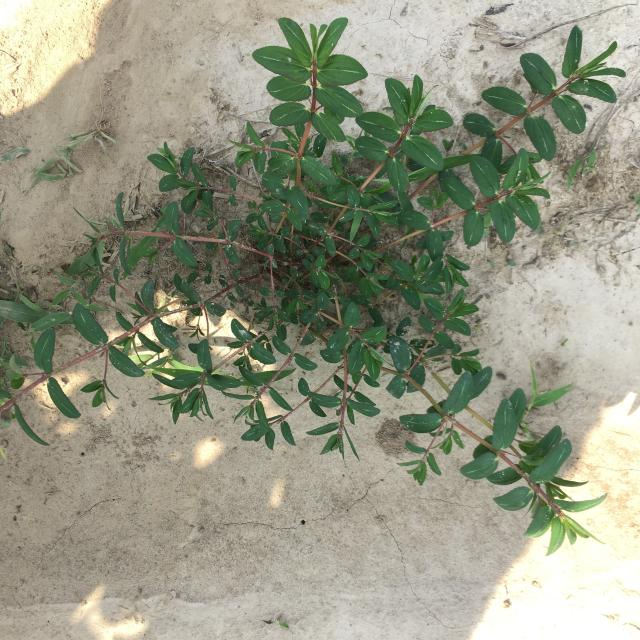SpottedSpurge: (0, 16, 628, 556)
